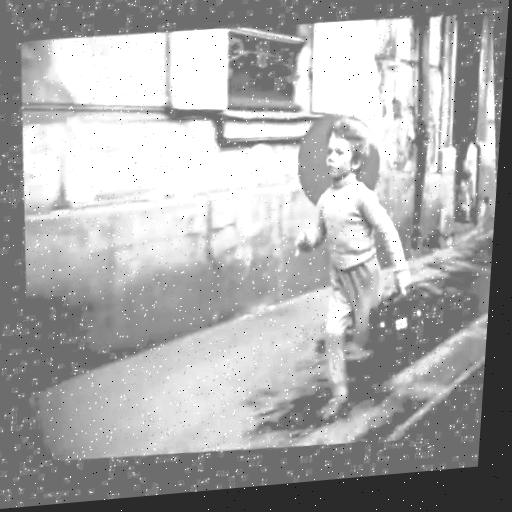balloon: (286, 106, 383, 207)
